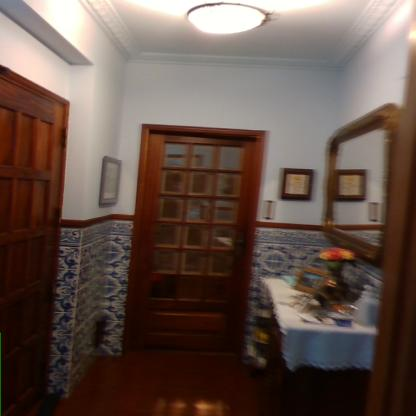closed: (121, 113, 268, 369)
